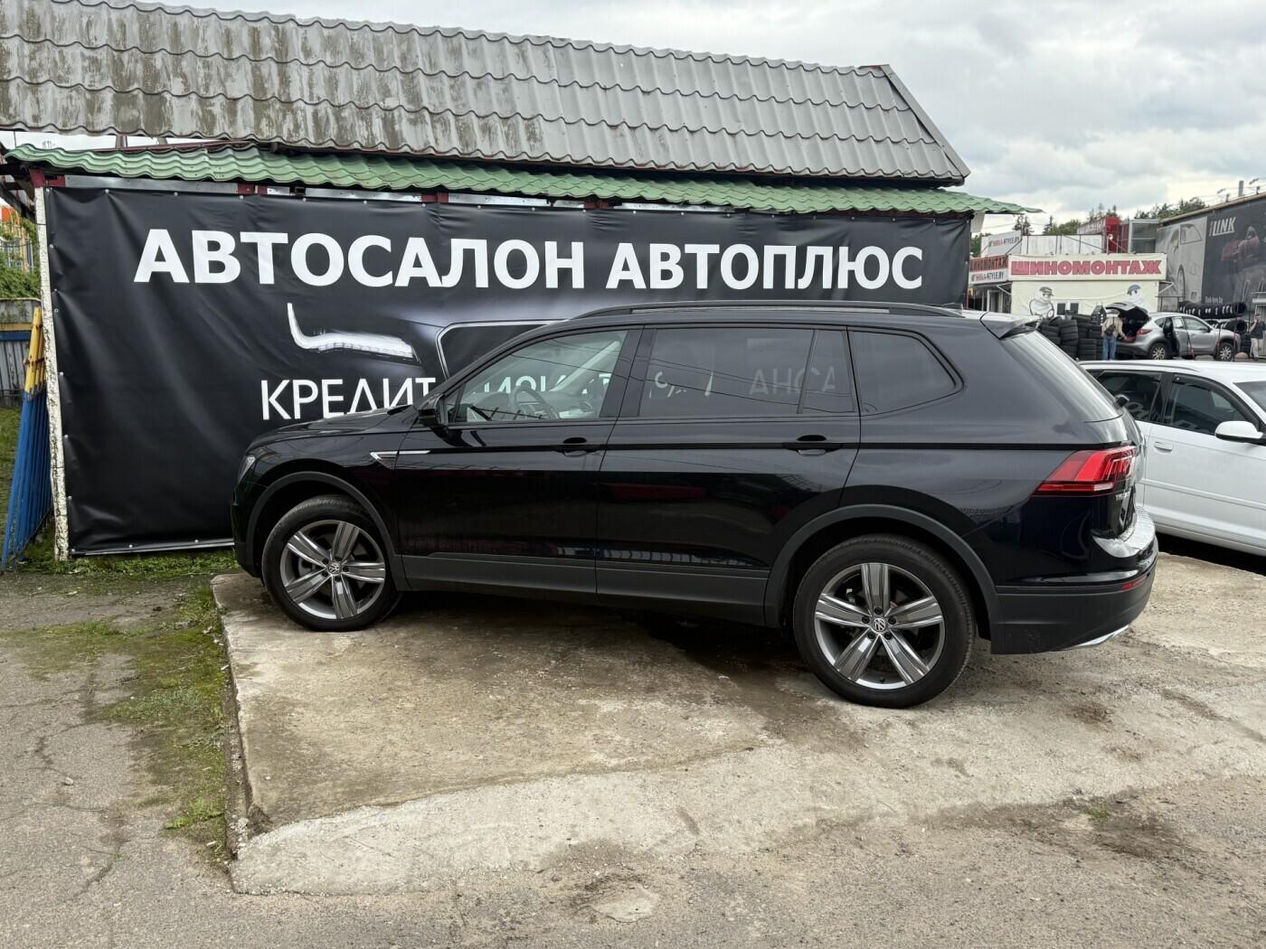Tiguan_2016-2021: (234, 301, 1164, 709)
